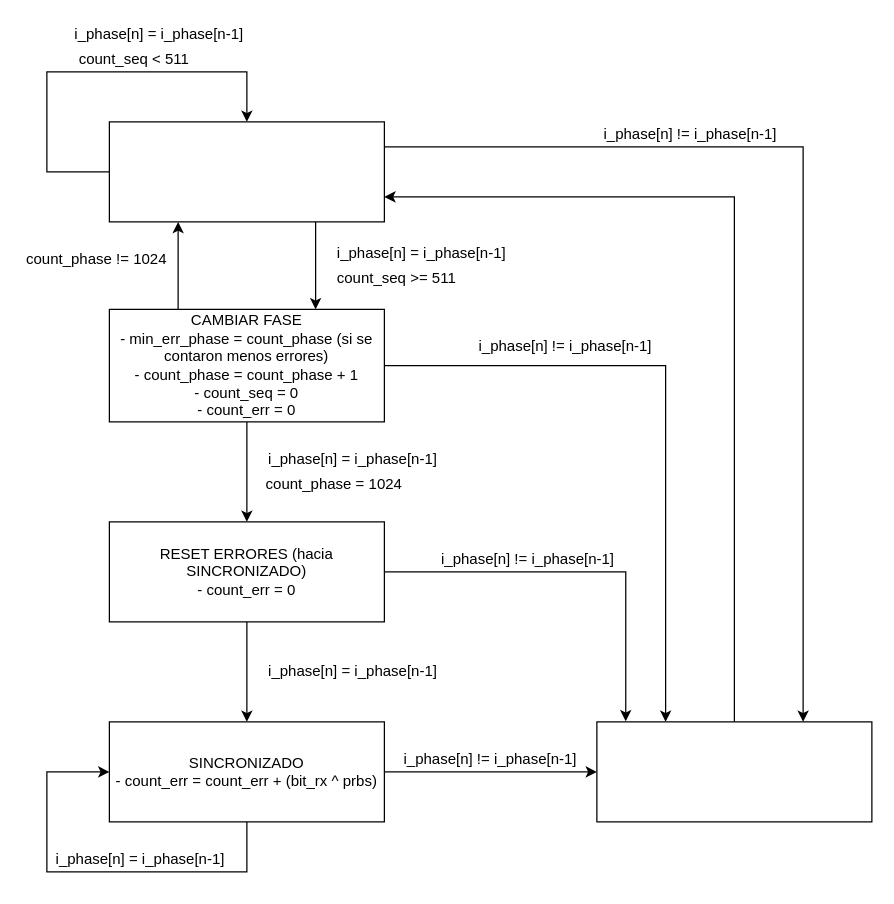
Some shapes in this 894 by 904 pixel diagram are drawn without their labels. The centre of each missing label's shape, as x and y in pixels:
COMPARAR - count_err = count_err + (bit_rx ^ prbs) - count_seq = count_seq + 1: pixel 246 171
RESET ERRORES (hacia COMPARAR) - count_err = 0: pixel 734 771
